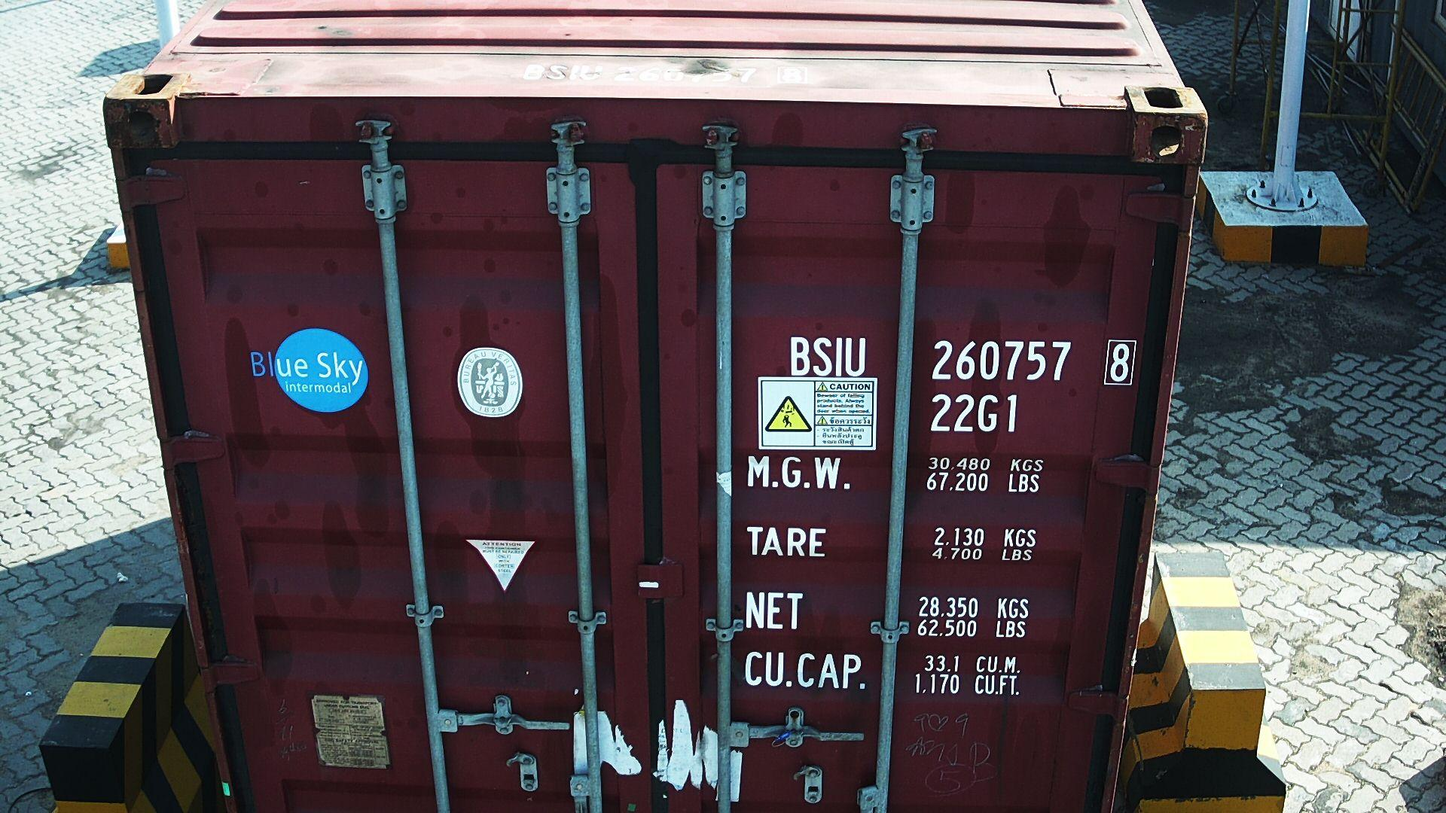container-numbers: (784, 333, 1141, 388), (511, 61, 831, 84), (926, 390, 1023, 435)
